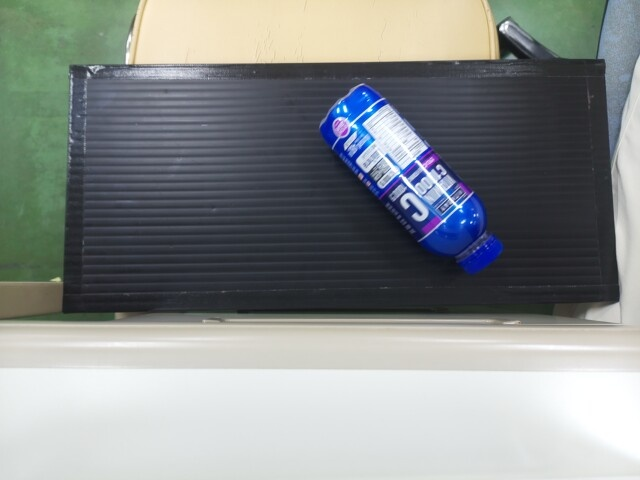plastic_bottle: (318, 70, 493, 271)
